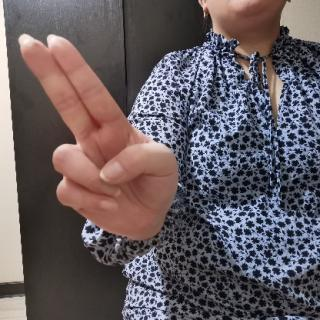TA: (16, 27, 186, 243)
